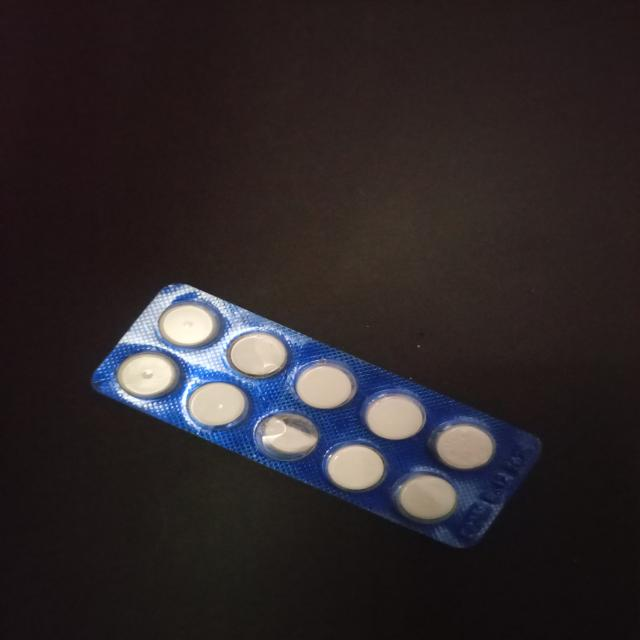defect: (248, 408, 324, 464)
